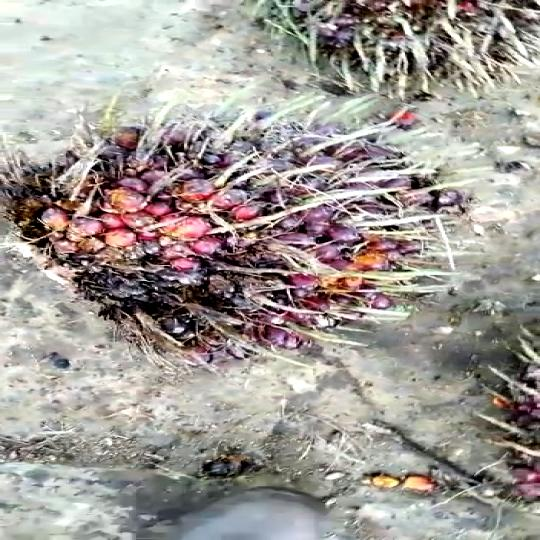masak: (0, 78, 470, 384)
